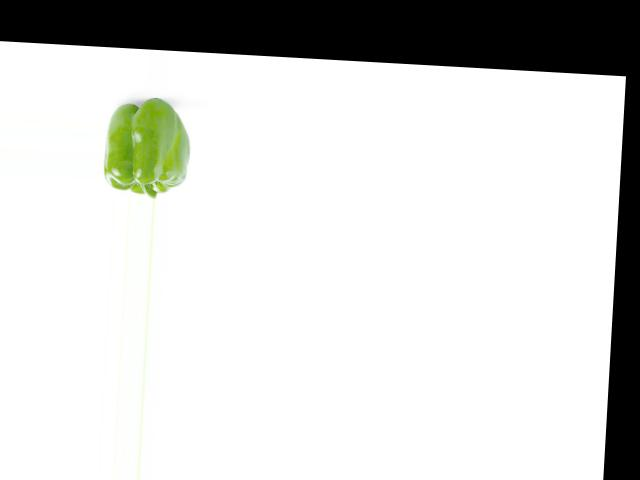bell_pepper: (100, 98, 194, 198)
